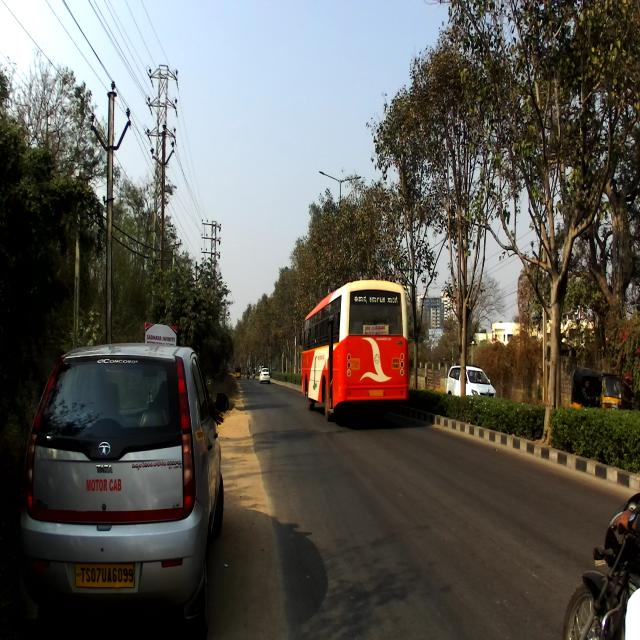bus ahead at: (304, 281, 411, 424)
car ahead at: (18, 348, 225, 635)
